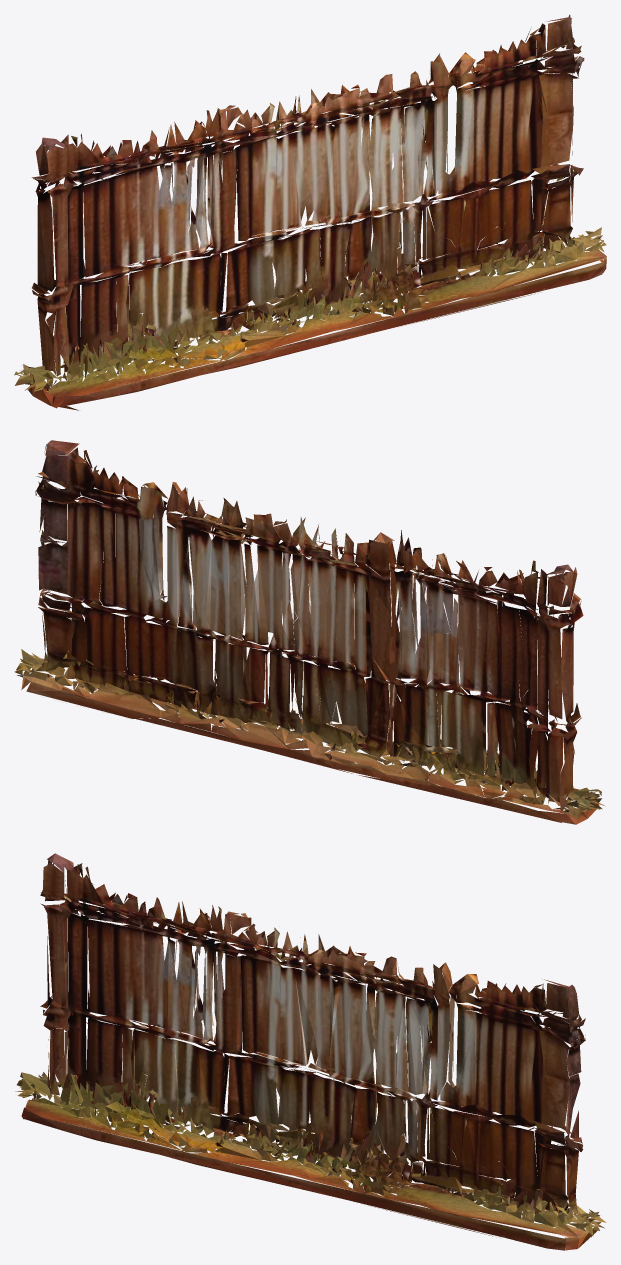
The model's file is scrap-metal-fence.glb.
The picture shows the model from 3 angles, top to bottom: view 1: azimuth 30°, elevation 25°; view 2: azimuth 150°, elevation 25°; view 3: azimuth 330°, elevation 25°; orthographic projection.
Parts seen in each view (by area): view 1: tmp0g1p33fr.ply; view 2: tmp0g1p33fr.ply; view 3: tmp0g1p33fr.ply.
Boxes of the visible parts, x1,y1,x2,y2 form: tmp0g1p33fr.ply: (14, 14, 606, 410); tmp0g1p33fr.ply: (14, 440, 604, 824); tmp0g1p33fr.ply: (15, 853, 606, 1250).
Bounding box in the file's own units: 6 × 2.5 × 0.6.
1 material, 1 textured.
